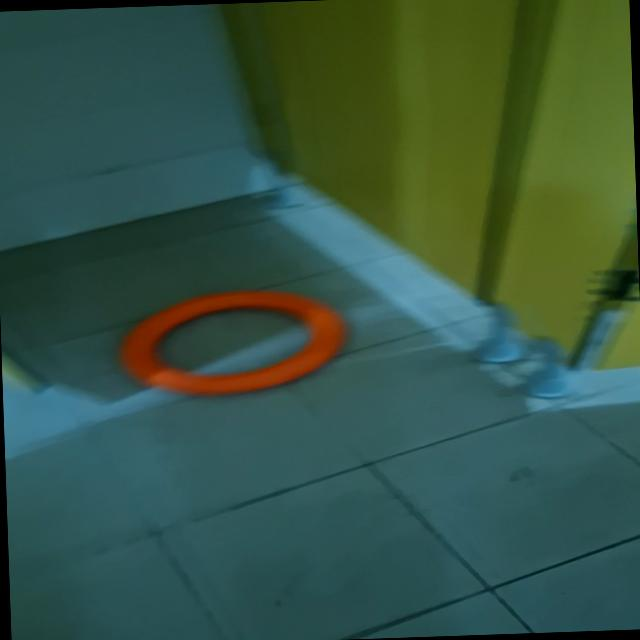note: (115, 286, 349, 400)
